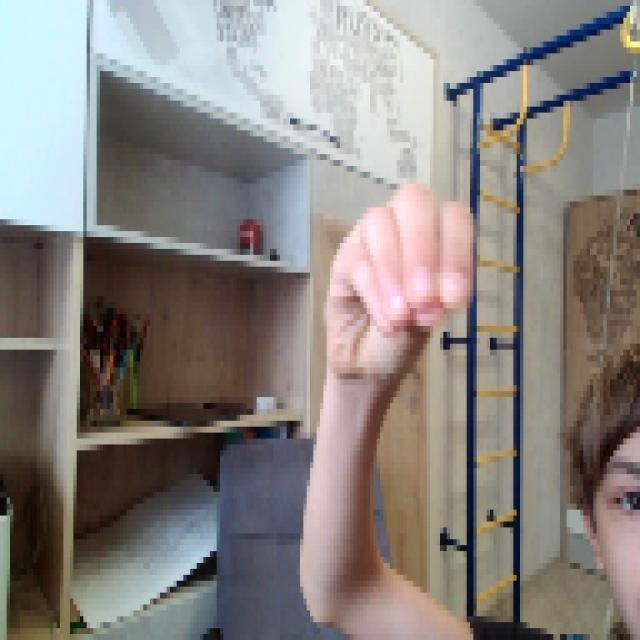left_click: (317, 172, 473, 373)
